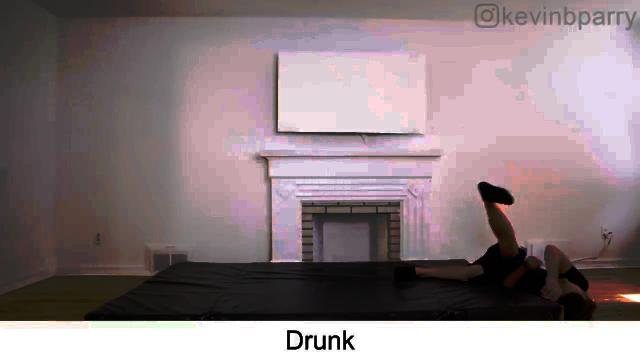jatuh: (381, 172, 605, 318)
